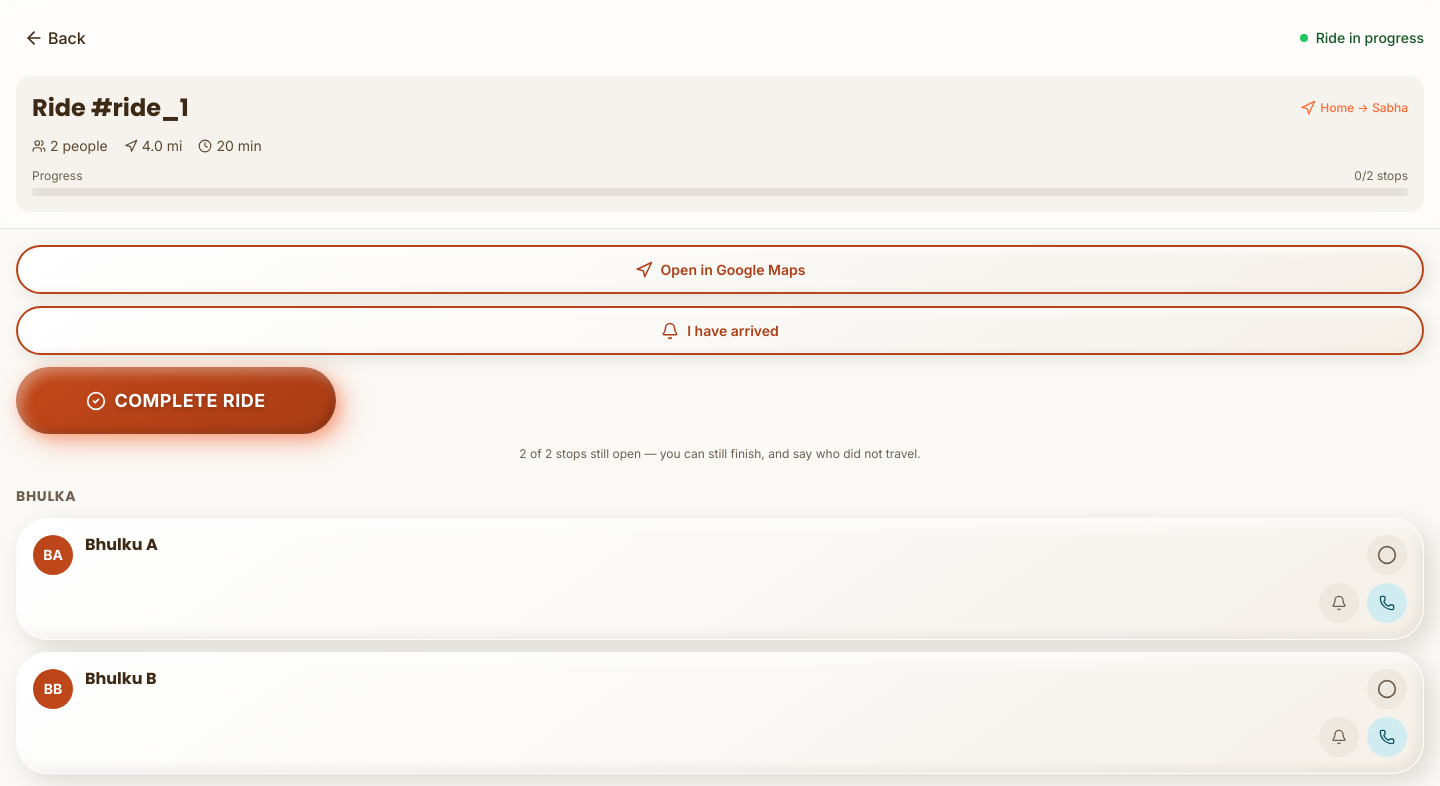
Test: the roster is the record › says what went wrong instead of failing silently
Click the button "Complete Ride".
click(176, 400)  # box [16, 367, 336, 434]
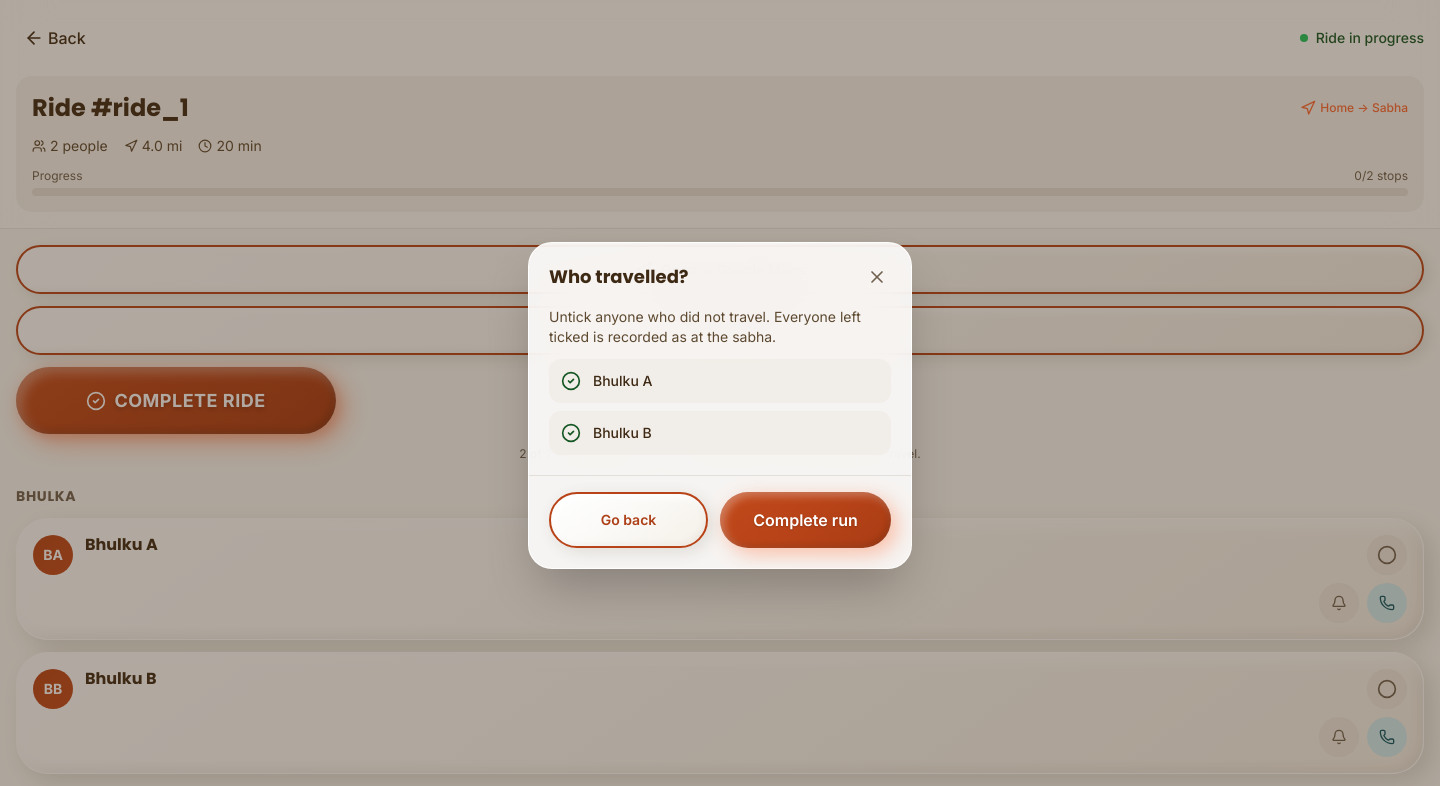
Click the button "Complete run".
click(806, 520)  # box [720, 492, 891, 548]
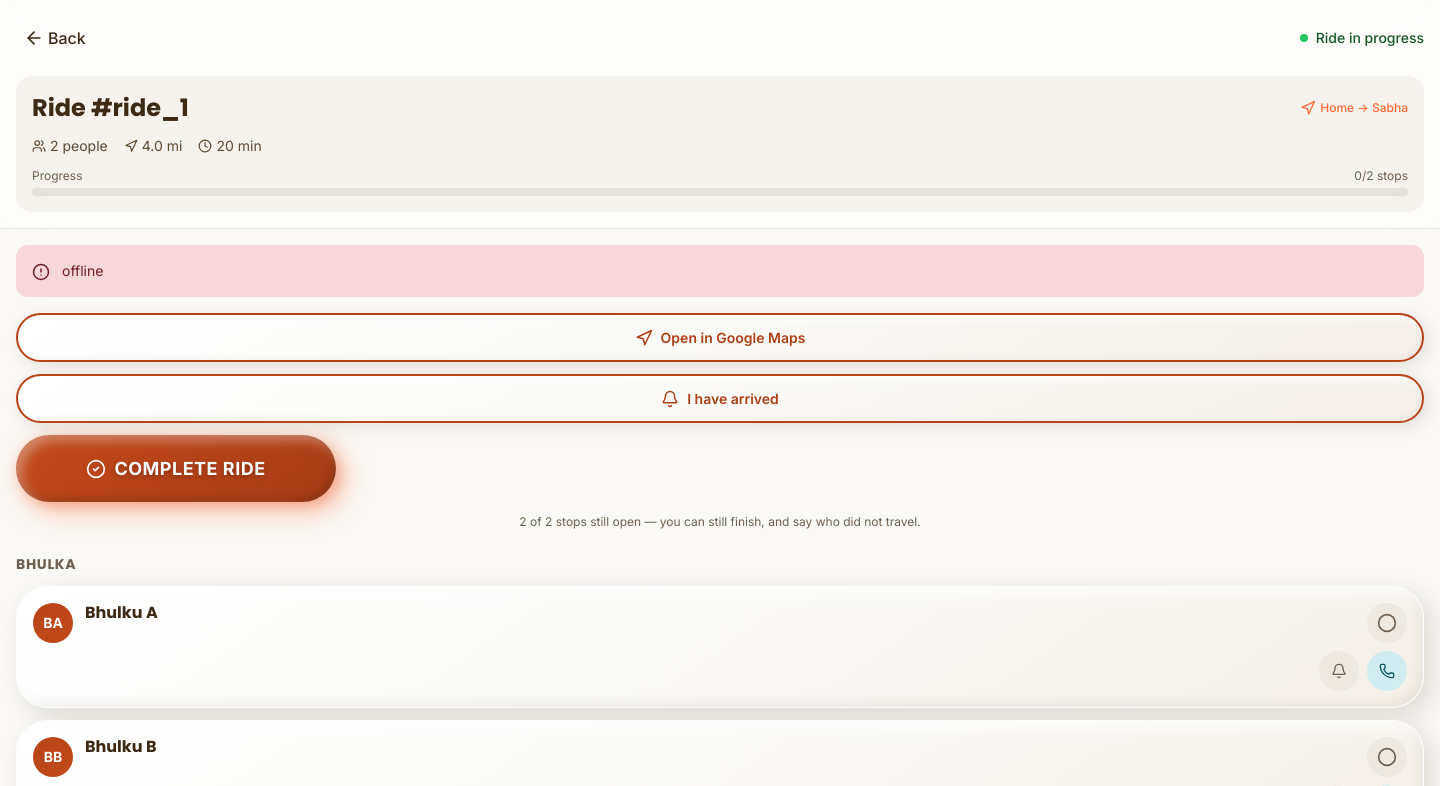
Result: the text "offline" is shown at [62, 261, 103, 281]
